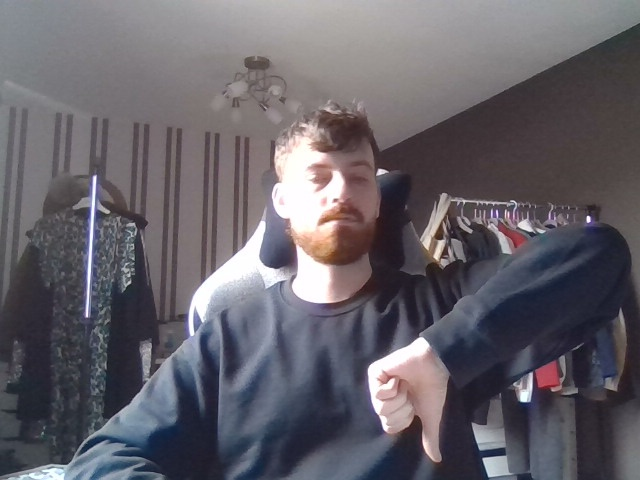Thumbs Down: (357, 317, 473, 465)
